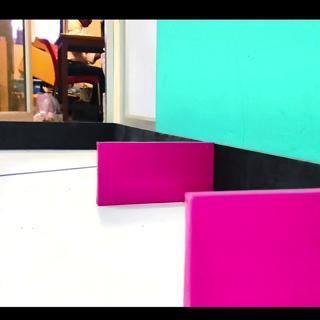xparking: (185, 195, 316, 304), (100, 142, 180, 201)
